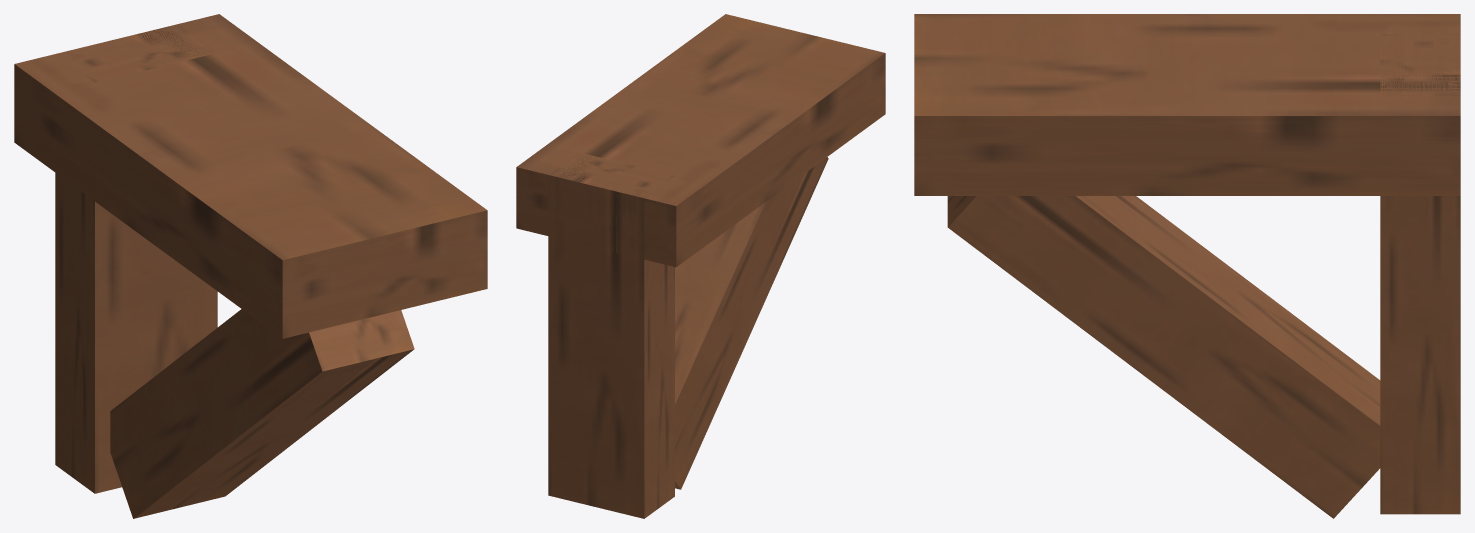
The model's file is rc_wa_veranda_corbel.glb.
The picture shows the model from 3 angles, left to right: view 1: azimuth 30°, elevation 25°; view 2: azimuth 150°, elevation 25°; view 3: azimuth 270°, elevation 25°; orthographic projection. The views are drawn at different scales.
Visible parts, largest first — view 1: SM_RC_WA_VerandaCorbel; view 2: SM_RC_WA_VerandaCorbel; view 3: SM_RC_WA_VerandaCorbel.
Part boxes in pixels (<box>): SM_RC_WA_VerandaCorbel: <box>14,14,487,518</box>; SM_RC_WA_VerandaCorbel: <box>516,14,885,518</box>; SM_RC_WA_VerandaCorbel: <box>914,14,1460,518</box>.
Size of the model in its own units: 0.6 by 1.18 by 1.36.
1 material, 1 textured.
